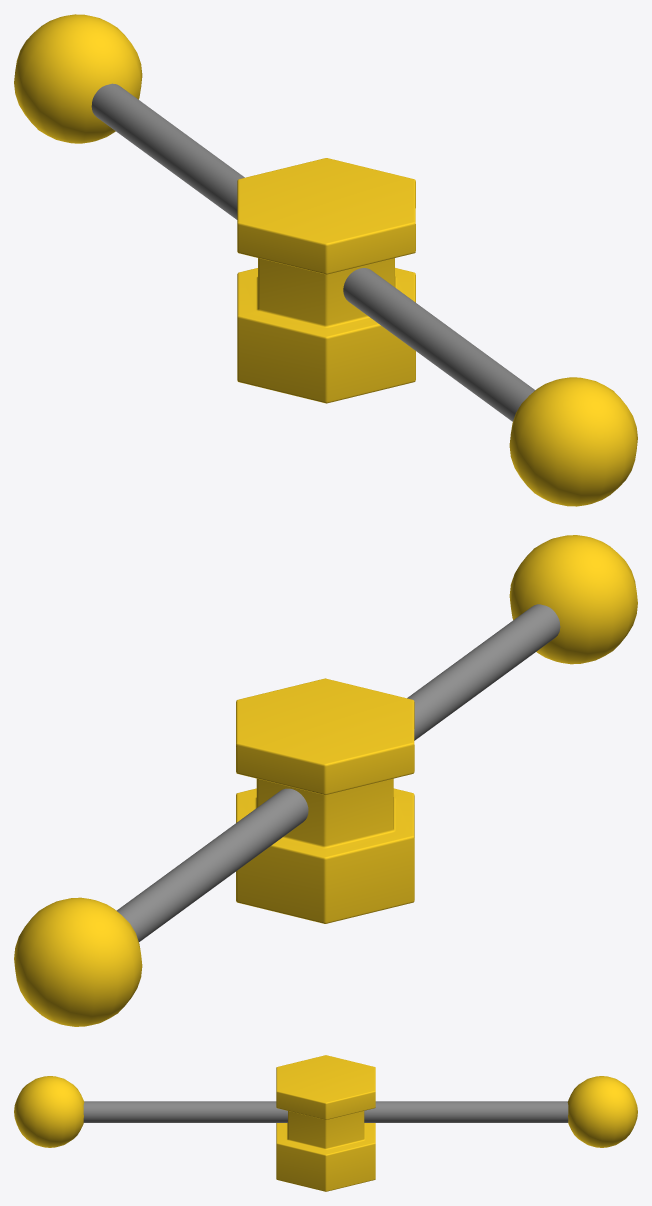
File: Cubuklutop (1).fbx
3 renders of one model, top to bottom at view 1: azimuth 30°, elevation 25°; view 2: azimuth 150°, elevation 25°; view 3: azimuth 270°, elevation 25°, orthographic. The views are drawn at different scales.
Parts seen in each view (by area): view 1: Tornado; view 2: Tornado; view 3: Tornado.
Boxes of the visible parts, x1,y1,x2,y2 form: Tornado: [14, 14, 637, 506]; Tornado: [14, 535, 637, 1026]; Tornado: [14, 1055, 637, 1191].
Bounding box in the file's own units: 97.34 × 83.69 × 532.
